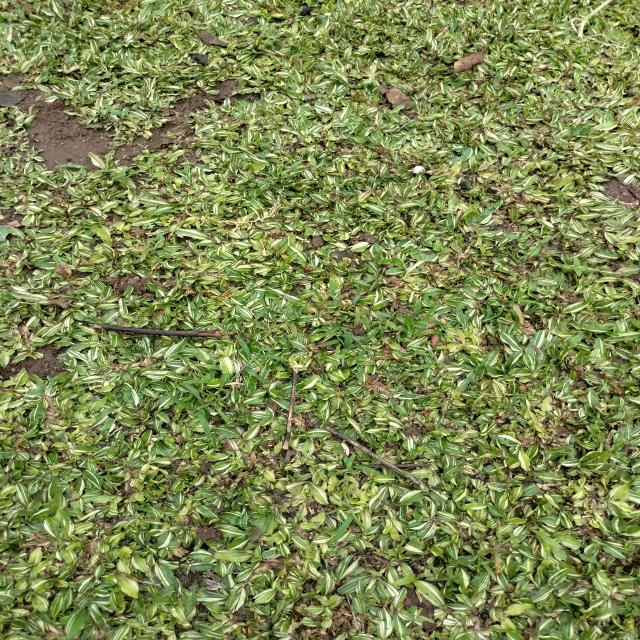rambat atas: (231, 345, 293, 383), (331, 490, 370, 544), (470, 532, 524, 564), (496, 284, 545, 312), (334, 452, 378, 482), (244, 295, 284, 322), (318, 316, 354, 340), (412, 298, 444, 322), (185, 400, 217, 417), (209, 372, 230, 396), (352, 339, 372, 362), (313, 337, 347, 350), (135, 155, 156, 176), (181, 370, 212, 384), (322, 278, 340, 302), (54, 159, 88, 171), (481, 303, 501, 322), (392, 310, 416, 324), (140, 235, 151, 264)
rambat bawah: (379, 310, 432, 340)
tunggang besar: (559, 256, 590, 278)
tunggang tengah: (187, 577, 211, 600), (107, 140, 118, 151)
